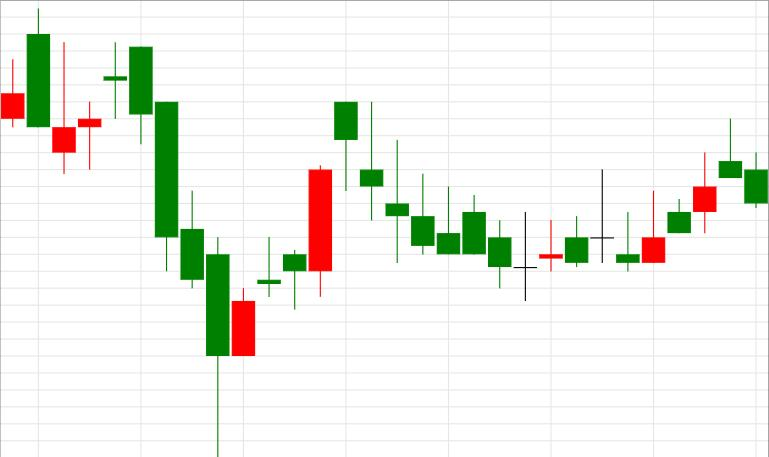hanging_man_fall: (232, 102, 358, 357)
